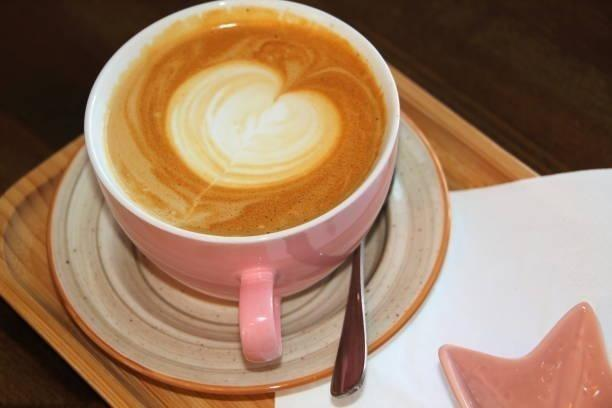cup-handle: (82, 0, 403, 372)
